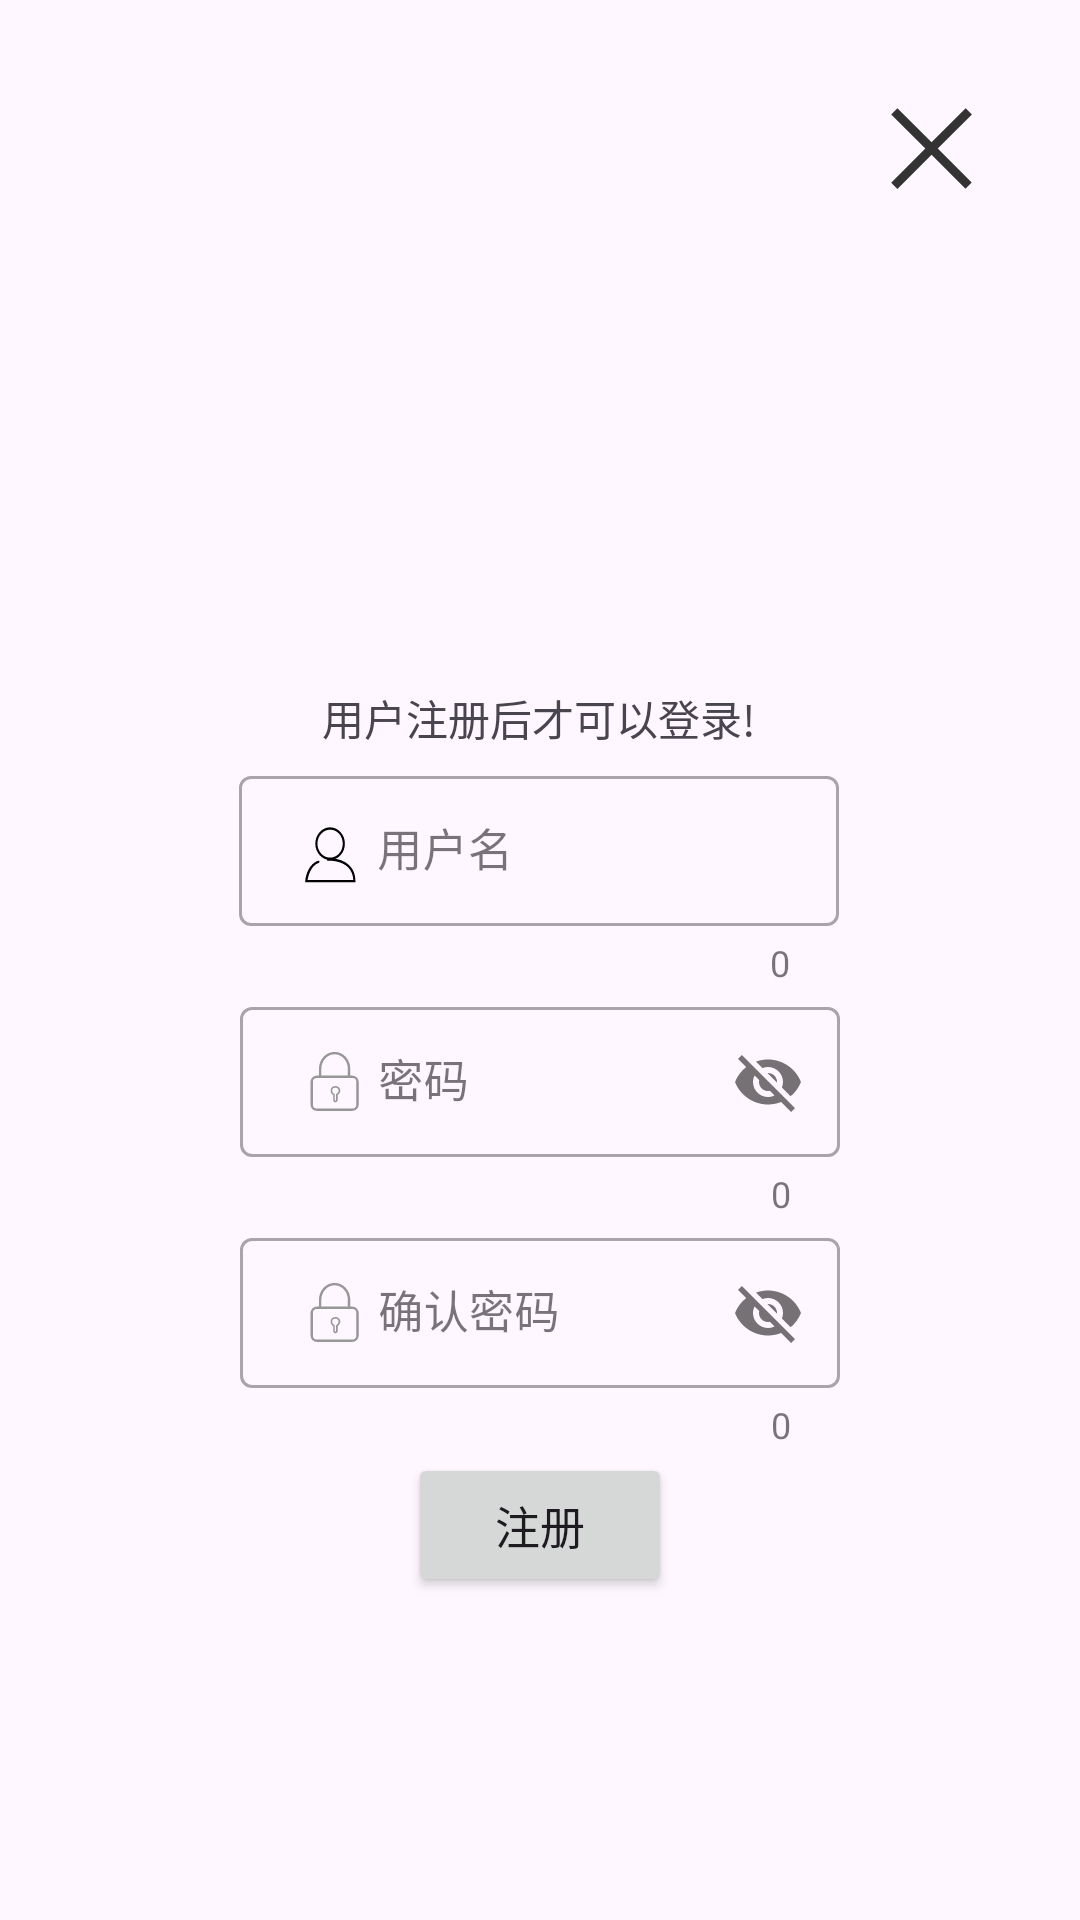

Named icons in this screenshot (1080*1920) and their centers, (x=x, y=y):
close: (x=931, y=148)
